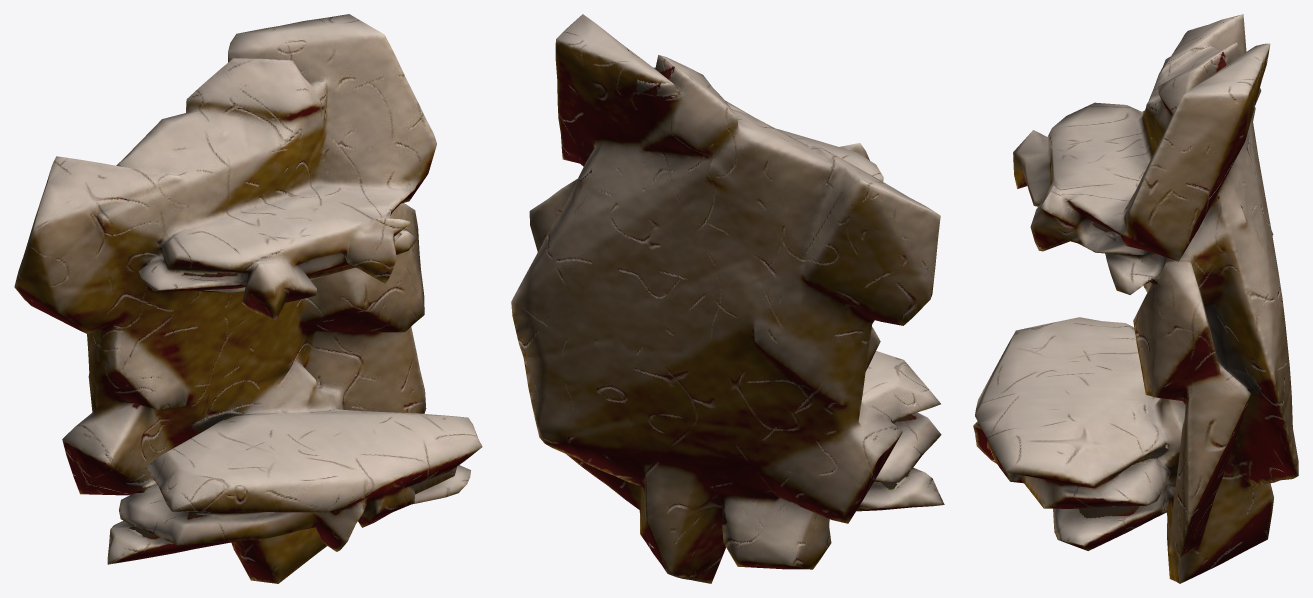
File: shelf_c.glb
3 views of the same model, side by side, from view 1: azimuth 30°, elevation 25°; view 2: azimuth 150°, elevation 25°; view 3: azimuth 270°, elevation 25° (orthographic). The views are drawn at different scales.
Parts seen in each view (by area): view 1: rock; view 2: rock; view 3: rock.
Boxes of the visible parts, x1=… form: rock: x1=14, y1=14, x2=482, y2=583; rock: x1=511, y1=14, x2=944, y2=583; rock: x1=973, y1=14, x2=1298, y2=583.
Size of the model in its own units: 0.902 by 1.12 by 0.6103.
1 material, 1 textured.
